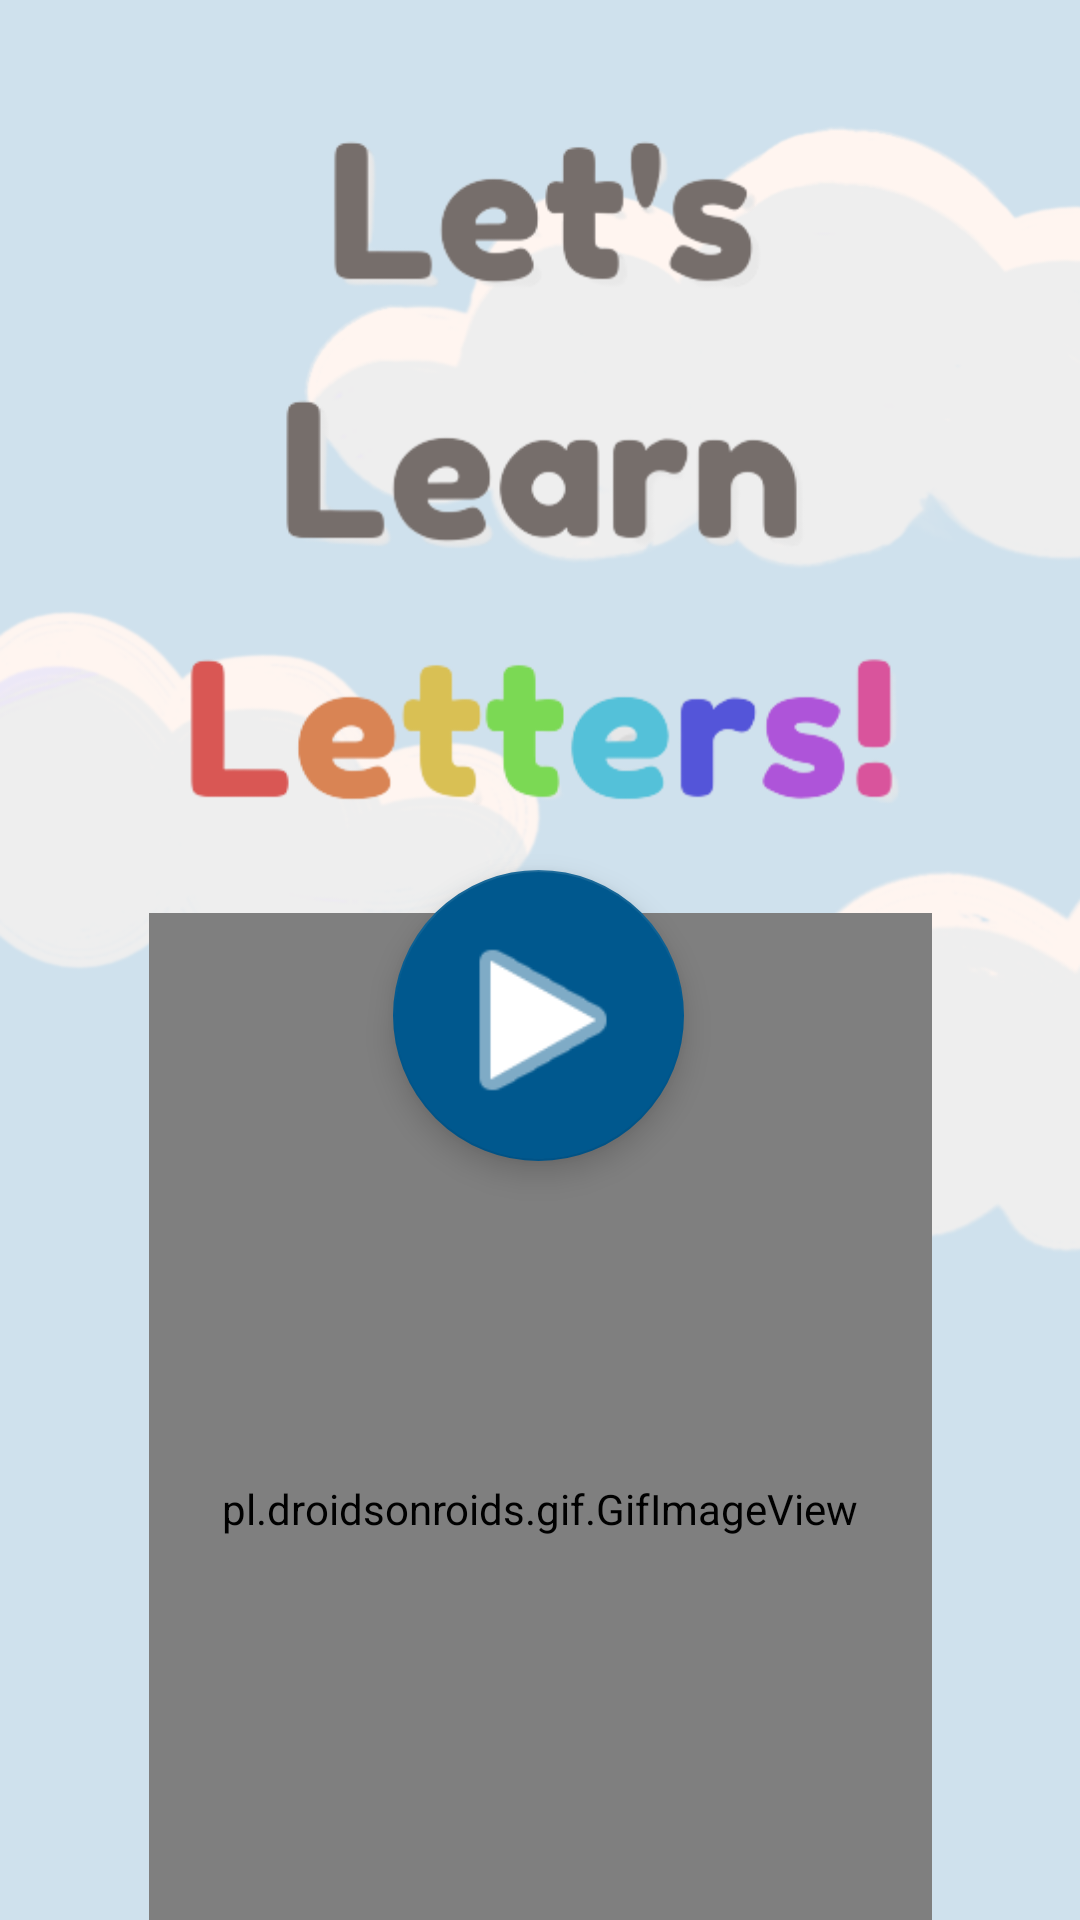

Icons on this 1080×1920 Android screen, each with the point to tap as (x,y):
play: (538,1015)
